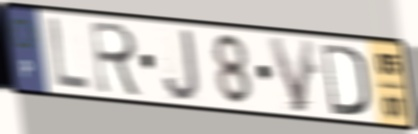8: (210, 32, 255, 108)
D: (319, 40, 371, 119)
J: (161, 27, 202, 104)
L: (47, 14, 91, 94)
R: (88, 18, 145, 99)
V: (265, 35, 317, 115)
